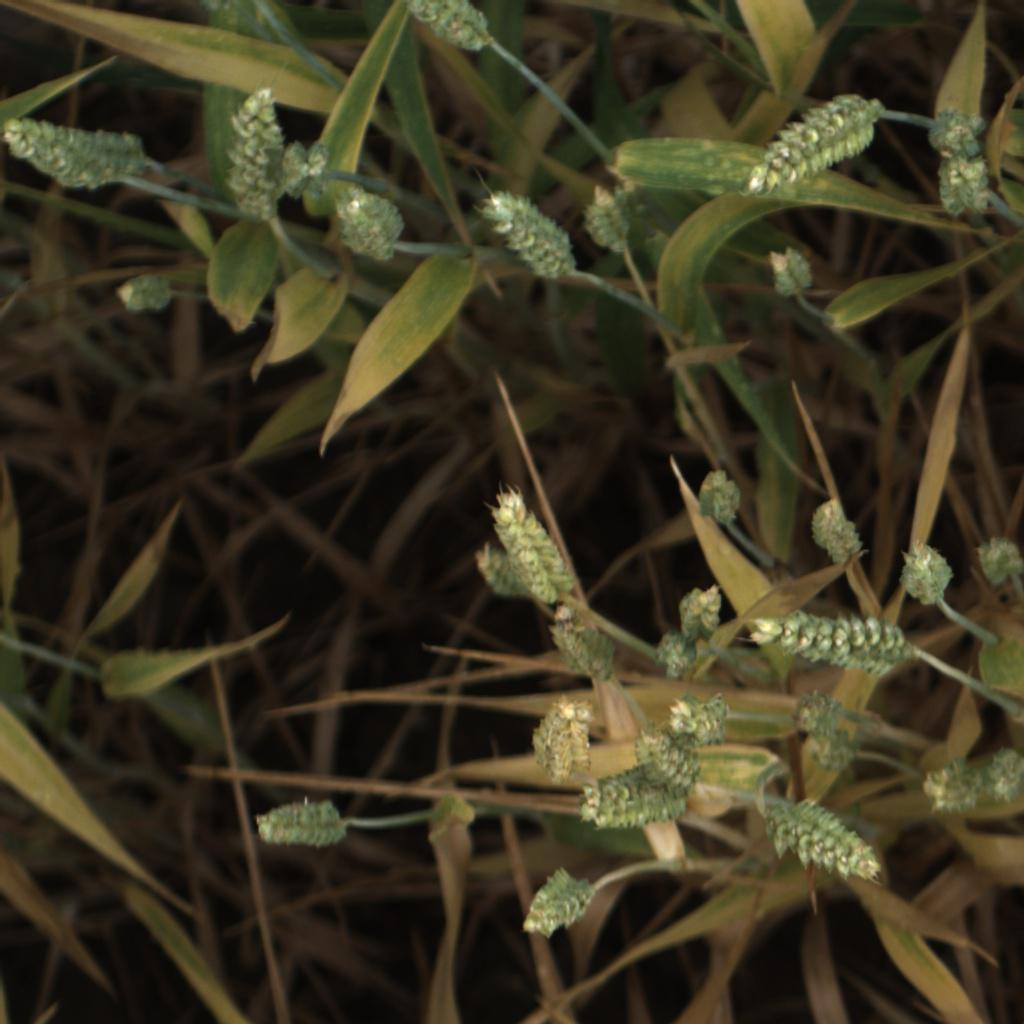0-0: (486, 478, 595, 616), (746, 87, 878, 200), (743, 606, 906, 671), (480, 185, 576, 287), (0, 114, 122, 190), (222, 86, 285, 229), (767, 810, 881, 889), (926, 116, 1001, 223), (571, 769, 693, 832), (335, 184, 409, 270), (514, 866, 595, 943), (630, 723, 705, 803), (246, 796, 355, 851), (528, 698, 602, 779), (546, 600, 620, 678), (685, 459, 747, 538), (804, 499, 869, 570), (406, 0, 500, 49), (896, 540, 959, 613), (920, 750, 985, 818), (577, 181, 633, 258), (789, 729, 869, 782), (458, 544, 524, 601), (278, 139, 334, 205), (79, 127, 151, 178), (758, 242, 818, 303), (973, 527, 1024, 598), (665, 692, 733, 744), (673, 577, 729, 640), (786, 689, 852, 739), (979, 738, 1024, 807), (650, 626, 699, 686), (115, 269, 174, 315)
